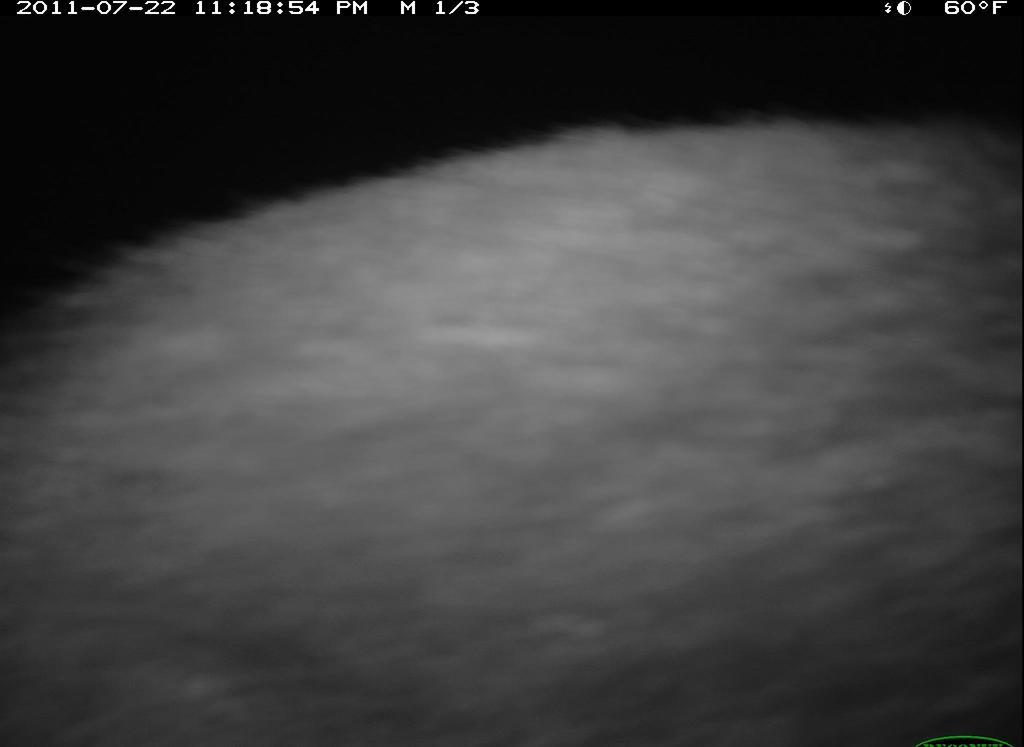raccoon: (6, 116, 1018, 747)
